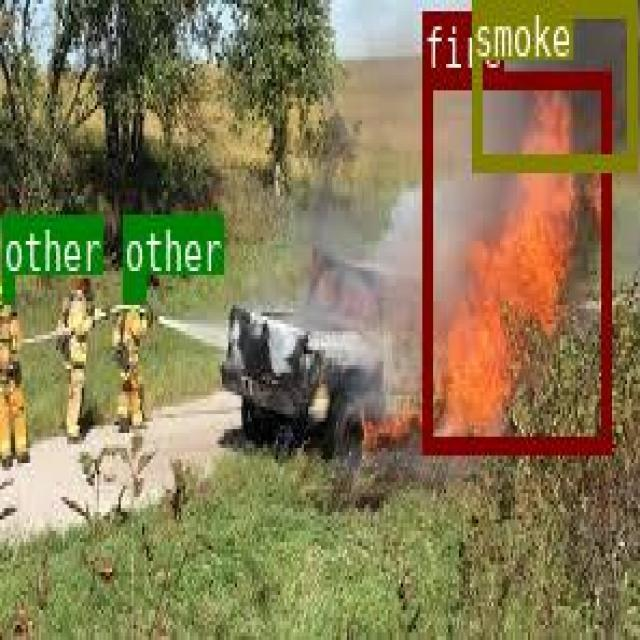fire: (423, 70, 610, 450)
smoke: (472, 0, 636, 166)
